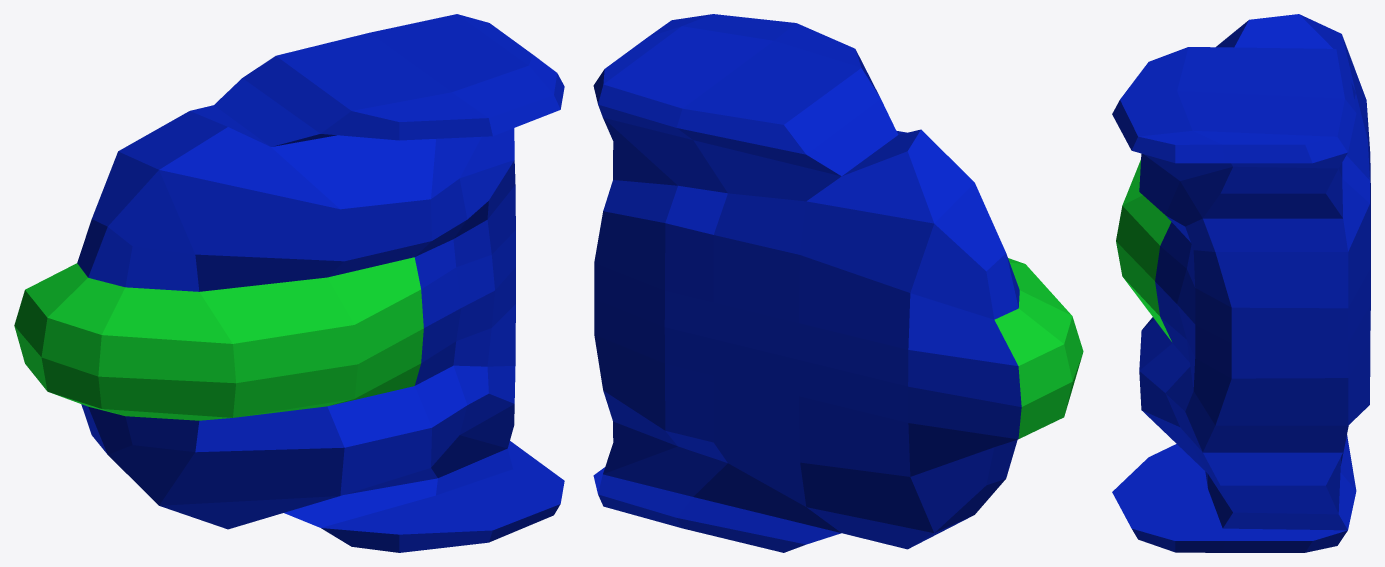
File: falcon.obj
3 views of the same model, side by side, from view 1: azimuth 30°, elevation 25°; view 2: azimuth 150°, elevation 25°; view 3: azimuth 270°, elevation 25° (orthographic). The views are drawn at different scales.
Parts seen in each view (by area): view 1: Cube; view 2: Cube; view 3: Cube.
Part boxes in pixels (<box>): Cube: <box>14,14,564,552</box>; Cube: <box>593,14,1083,552</box>; Cube: <box>1112,14,1370,552</box>.
Bounding box in the file's own units: 4.32 × 3.85 × 2.16.
